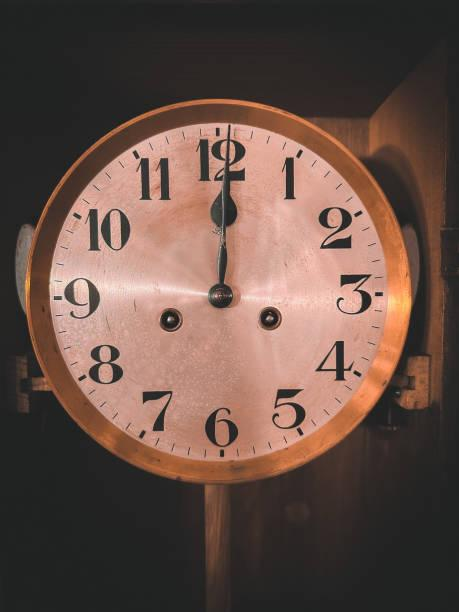clock: (16, 97, 418, 479)
